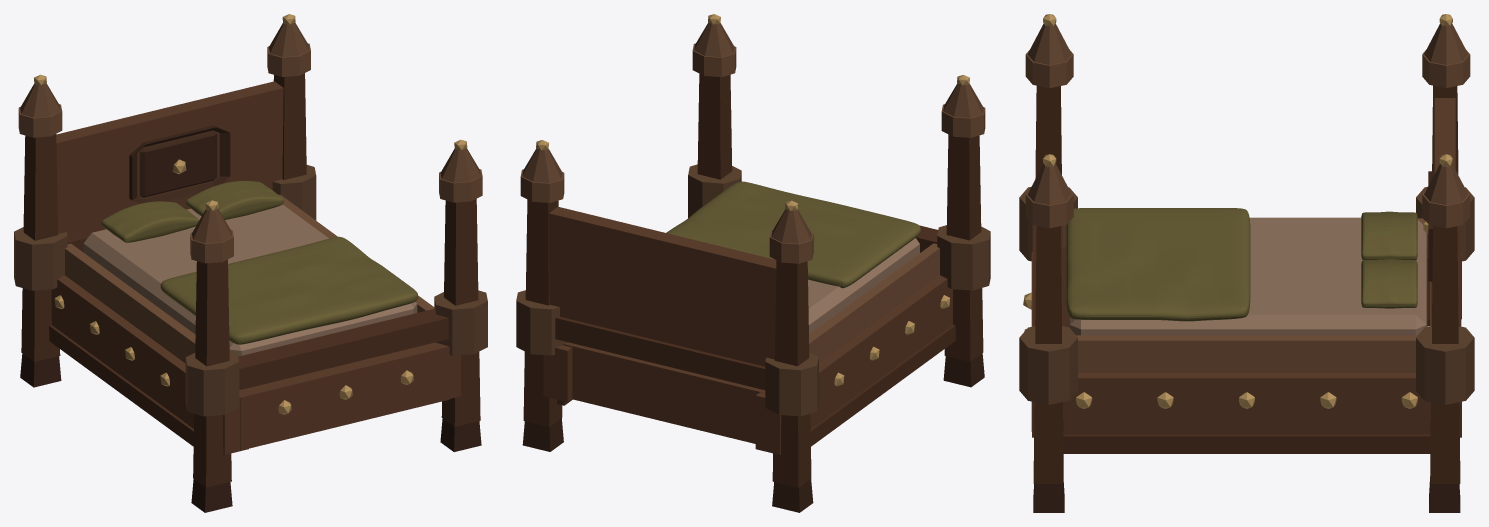
Rendered from BedFrane 1.fbx.
The picture shows the model from 3 angles, left to right: view 1: azimuth 30°, elevation 25°; view 2: azimuth 150°, elevation 25°; view 3: azimuth 270°, elevation 25°; orthographic projection. The views are drawn at different scales.
Parts seen in each view (by area): view 1: FootBoard.001, BedPost_3.001, Cube.002, PostDecor_3.002, Cube, LowerDecoration_-1, HeadboardCenter, LeftDecorativePanel, PostTop_3.003, BedFrame, Cube.005, Cube.004 (+1 smaller); view 2: FootBoard.001, BedPost_3.001, PostDecor_3.002, Cube.002, LowerDecoration_-1, LeftDecorativePanel, PostTop_3.003, BedFrame, Cube, SideDecoration_-1_4.002; view 3: FootBoard.001, Cube.002, Cube, PostDecor_3.002, BedPost_3.001, LeftDecorativePanel, LowerDecoration_-1, PostTop_3.003, Cube.004, Cube.005, SideDecoration_-1_4.002, BedFrame (+1 smaller).
Part boxes in pixels (x1,y1,x2,y2): FootBoard.001: [51, 81, 460, 454]; BedPost_3.001: [21, 73, 480, 487]; Cube.002: [160, 236, 418, 344]; PostDecor_3.002: [14, 22, 487, 416]; Cube: [83, 204, 417, 356]; LowerDecoration_-1: [49, 191, 448, 446]; HeadboardCenter: [129, 125, 230, 203]; LeftDecorativePanel: [65, 194, 434, 363]; PostTop_3.003: [18, 43, 482, 263]; BedFrame: [20, 353, 481, 512]; Cube.005: [101, 201, 199, 242]; Cube.004: [186, 181, 283, 219]; FootBoard.001: [543, 206, 952, 454]; BedPost_3.001: [523, 73, 983, 487]; PostDecor_3.002: [516, 22, 990, 416]; Cube.002: [666, 181, 920, 288]; LowerDecoration_-1: [555, 225, 955, 446]; LeftDecorativePanel: [809, 243, 939, 362]; PostTop_3.003: [520, 43, 985, 263]; BedFrame: [522, 353, 984, 512]; Cube: [808, 238, 919, 333]; SideDecoration_-1_4.002: [536, 14, 969, 386]; FootBoard.001: [1031, 98, 1461, 437]; Cube.002: [1066, 208, 1250, 321]; Cube: [1070, 217, 1426, 335]; PostDecor_3.002: [1019, 23, 1474, 404]; BedPost_3.001: [1033, 85, 1460, 483]; LeftDecorativePanel: [1063, 218, 1428, 372]; LowerDecoration_-1: [1032, 225, 1461, 453]; PostTop_3.003: [1025, 49, 1470, 228]; Cube.004: [1361, 259, 1417, 308]; Cube.005: [1361, 211, 1417, 260]; SideDecoration_-1_4.002: [1023, 14, 1452, 408]; BedFrame: [1033, 476, 1460, 512].
Size of the model in its own units: 2.46 by 2.39 by 2.8.
